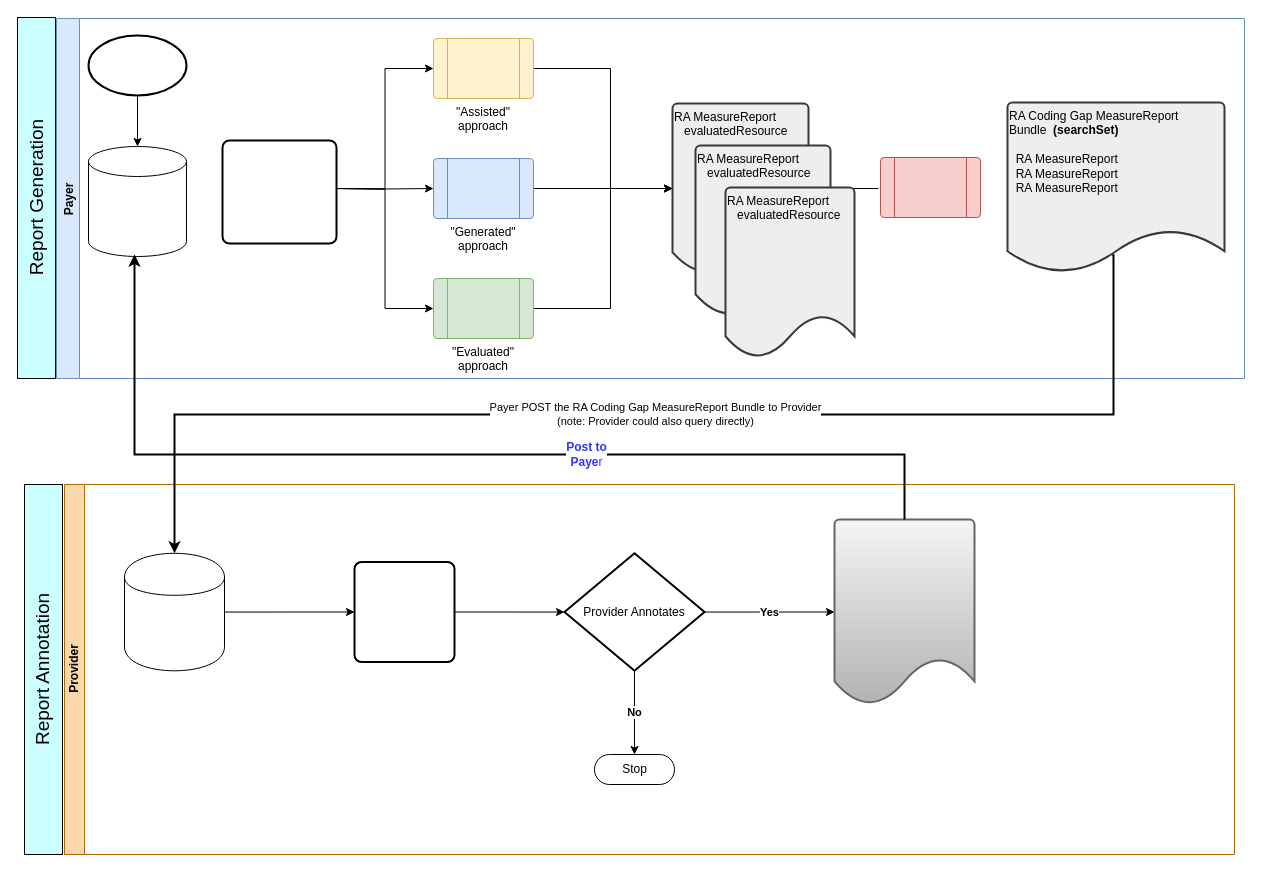
Some shapes in this 1262 by 872 pixel diagram are drawn without their labels. Each missing label, with the centre of its shape:
Display Risk Adjustment report: the point at 404,611
Generate Risk Adjustment (RA) Coding Gap MeasureReport (a.k.a. RA MeasureReport): the point at 279,191
Payer CC Database: the point at 137,201
Provider's Patient System: the point at 174,611
RA Coding Gap Risk Adjustment Repor t ... ... Annotation ...: the point at 904,611
REST query: the point at 930,187
Start: the point at 137,65
